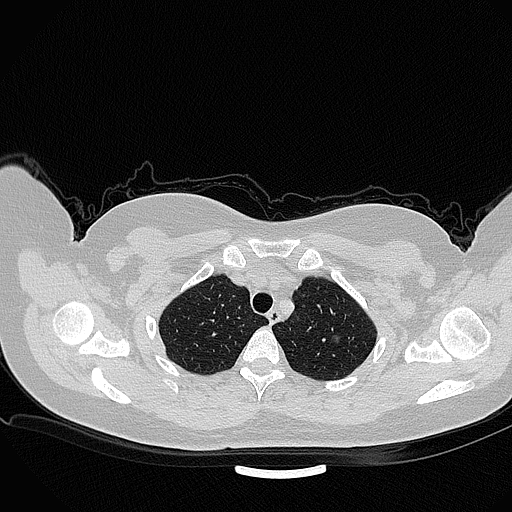nodule: (329, 334, 341, 344)
